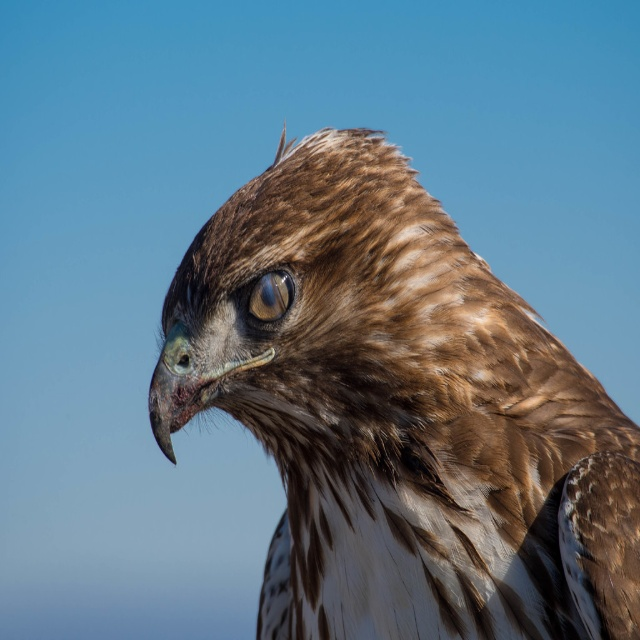Eagle: (145, 114, 640, 639)
